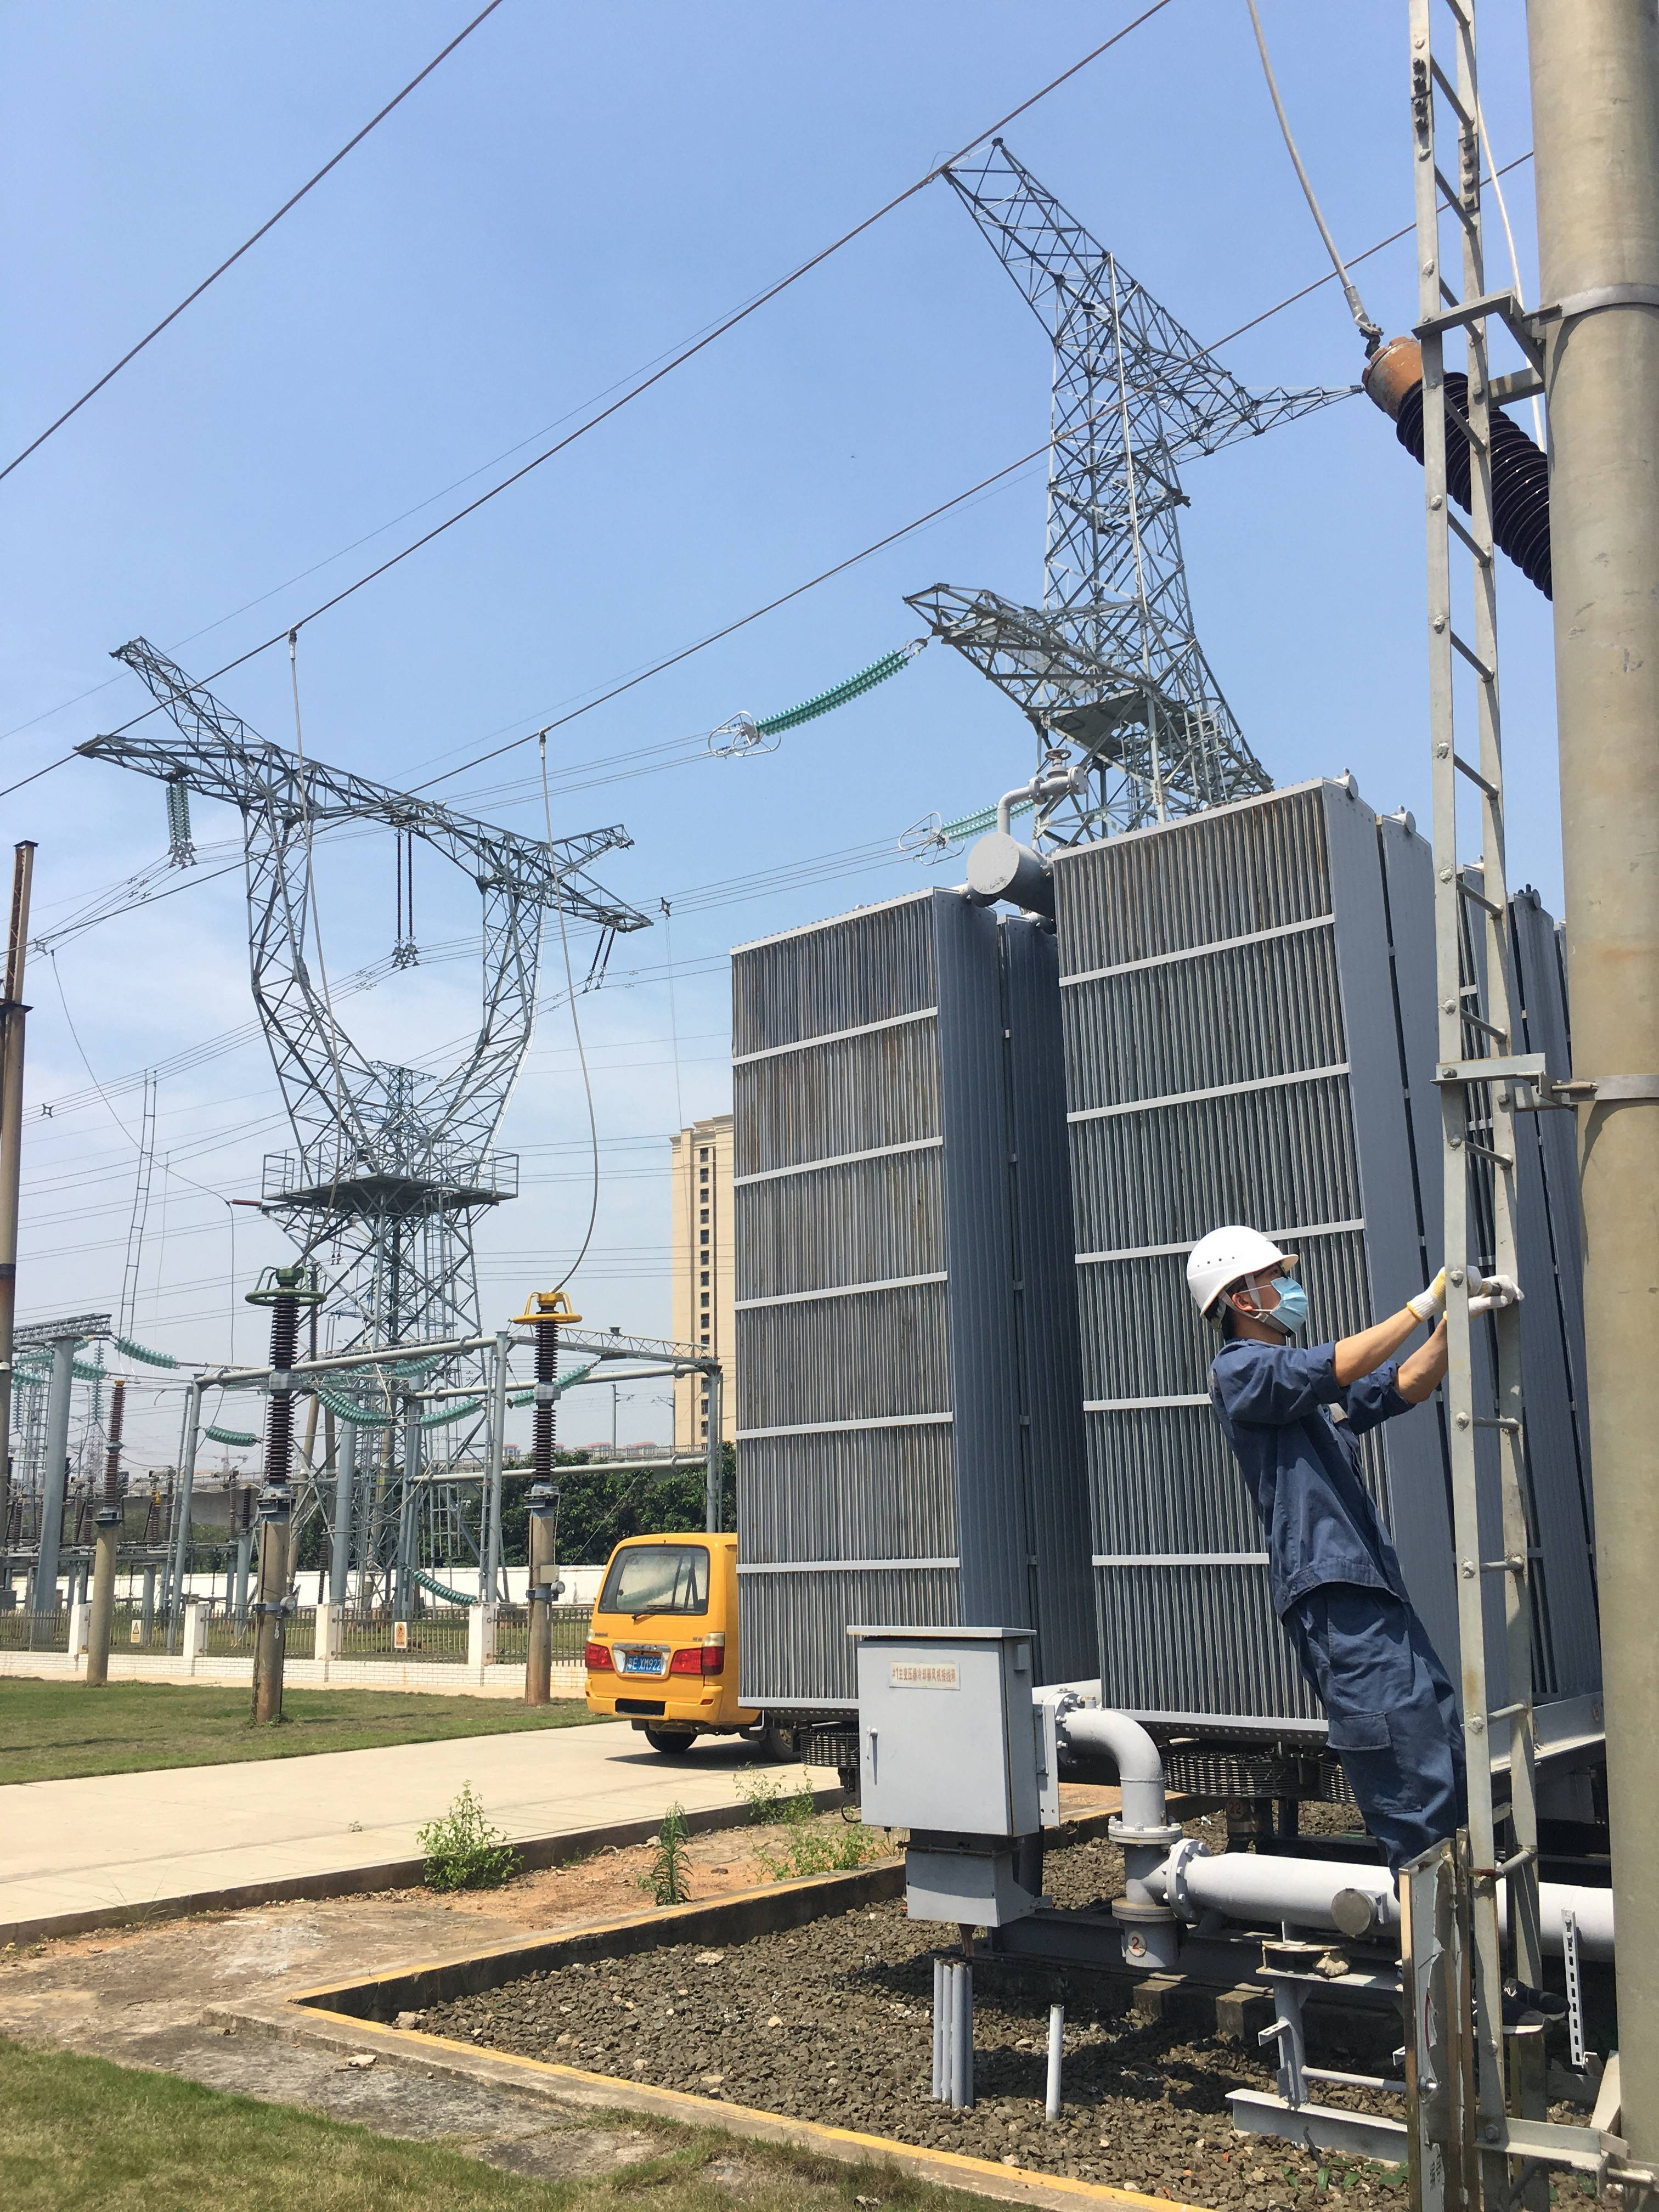downsuit: (1272, 1602, 1481, 1858)
upsuit: (1209, 1341, 1412, 1594)
wrongtop: (1307, 1291, 1448, 1418)
